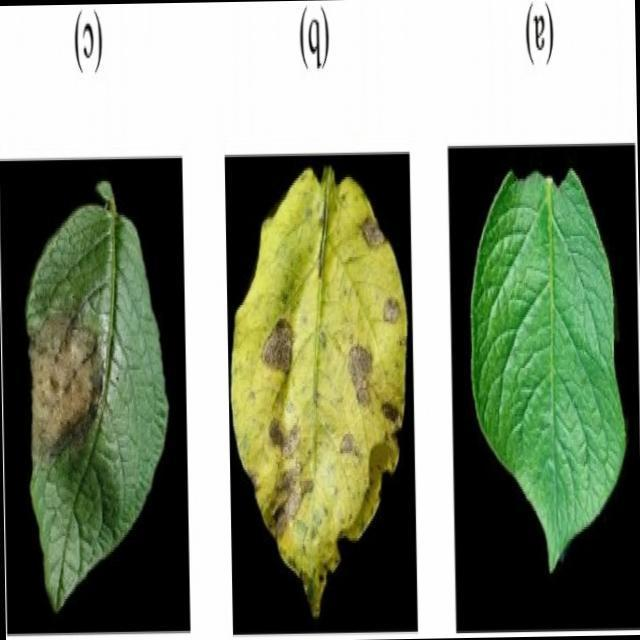Healthy Leaf: (465, 159, 627, 573)
